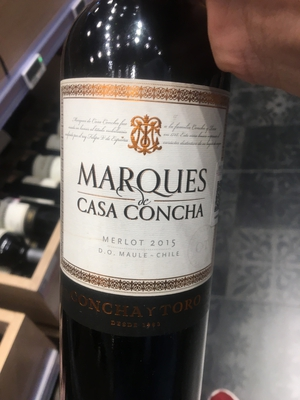marques de casa concha merlot: (58, 18, 235, 400)
